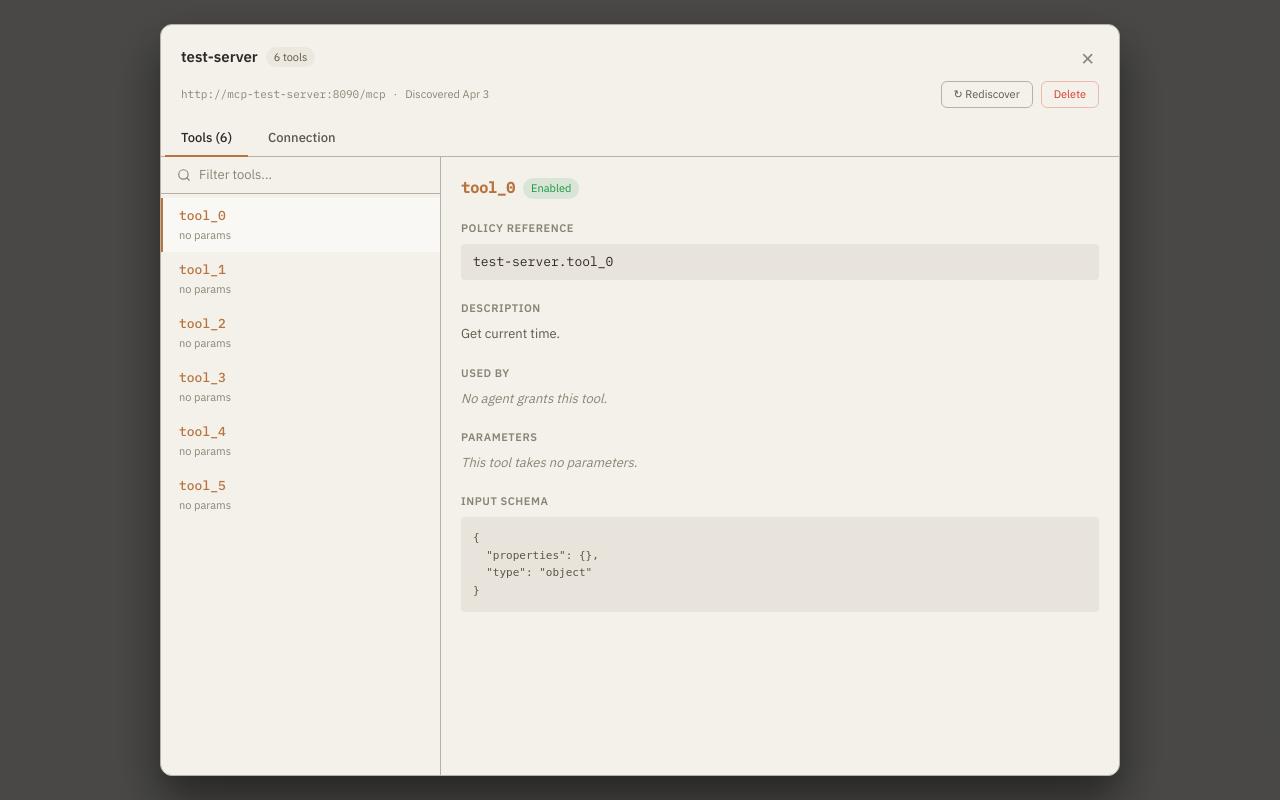
Test case: ServerDetailModal — tools tab › says so when the filter matches nothing
Step 1. Type "zzz" into the field labelled "Filter tools" → point(312, 175), box [199, 165, 424, 184]
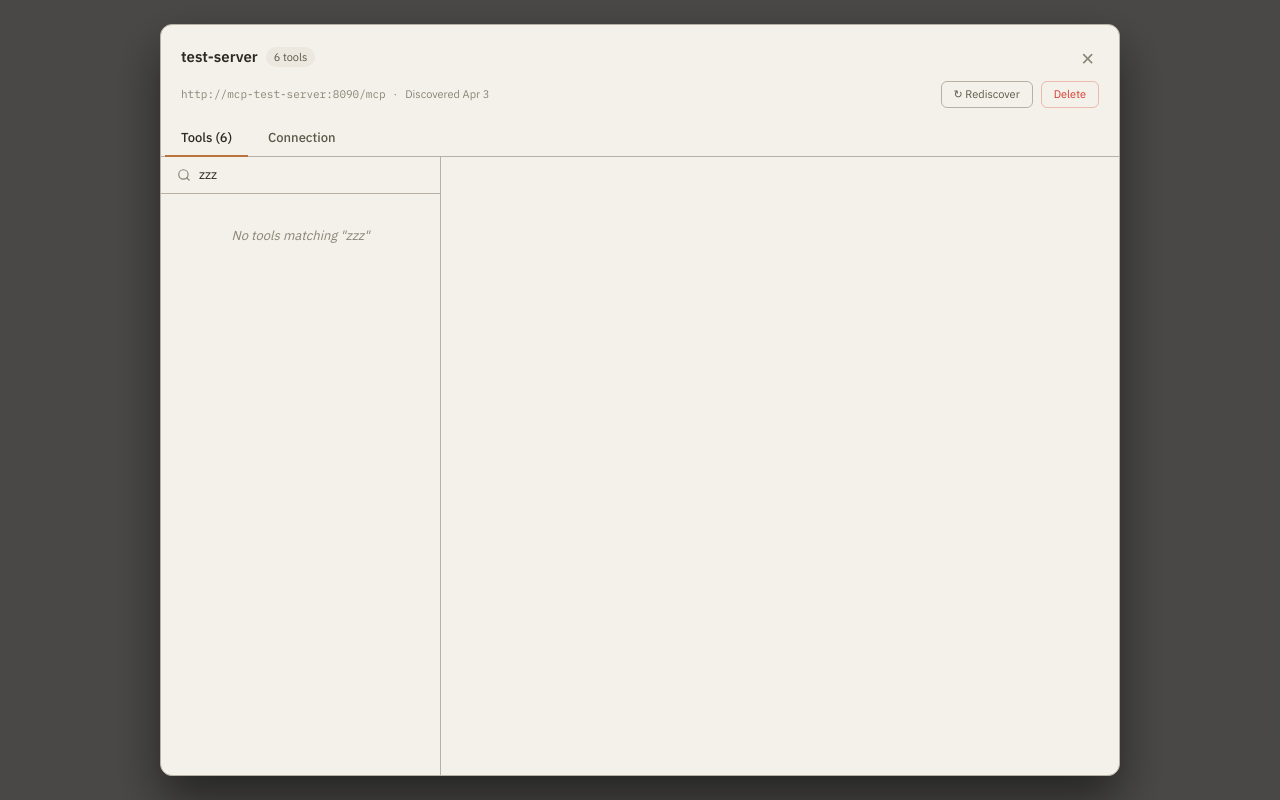
Result: the text "No tools matching \"zzz\"" is shown at [231, 226, 370, 244]
